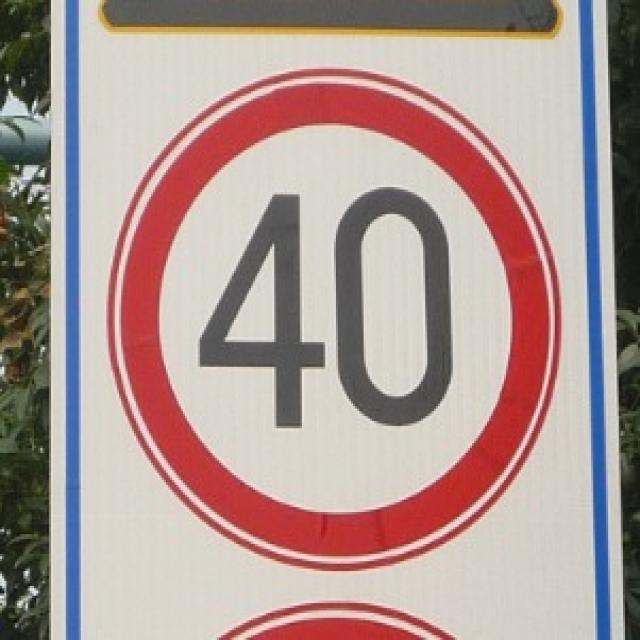Speed Limit -40-: (196, 178, 460, 436)
